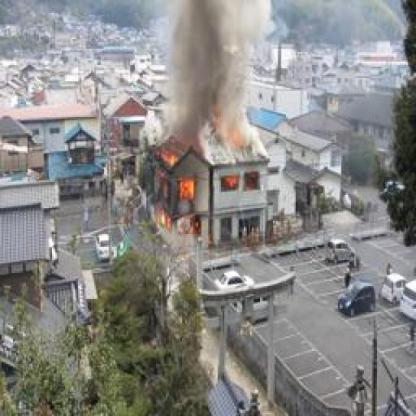fire: (151, 144, 205, 238), (207, 106, 255, 152), (219, 176, 240, 193)
